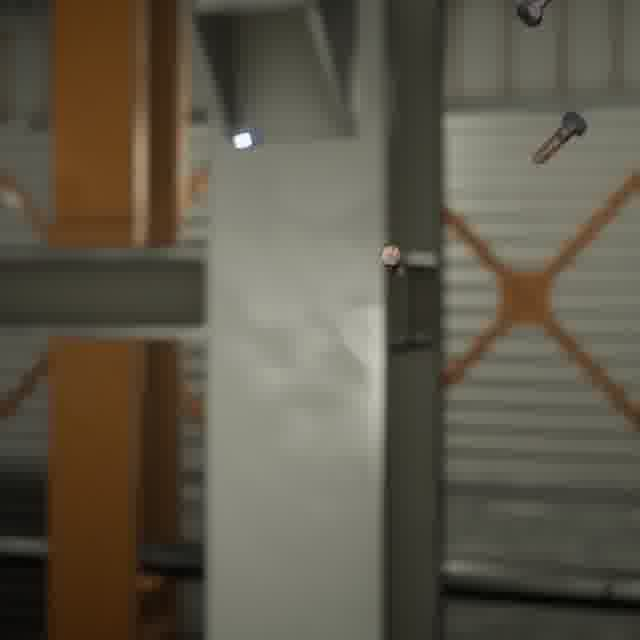bolt: (528, 106, 591, 168), (512, 0, 557, 31), (375, 240, 408, 280)
nut: (225, 125, 266, 154)
